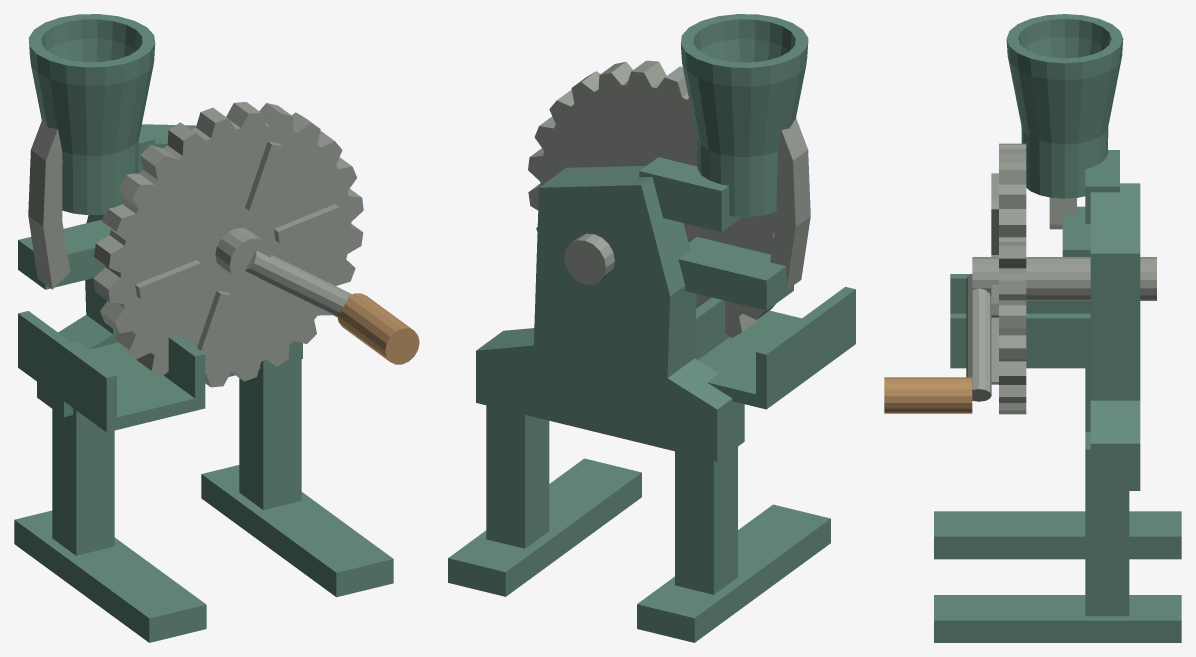
3 renders of one model, left to right at view 1: azimuth 30°, elevation 25°; view 2: azimuth 150°, elevation 25°; view 3: azimuth 270°, elevation 25°, orthographic. The views are drawn at different scales.
Visible parts, largest first — view 1: WholeSolidSerratedShellingDisc, WholeOpenTaperedCobThroat, WholeShortOpenOutfall, WholeLongMountingFoot0, WholeLongMountingFoot1, WholeShortBearingLeg1, WholeShortBearingLeg0, WholeCurvedFixedPressureJaw, WholeRoundedWoodCrankGrip, WholeWaistedUprightBearingCasting, WholeOffsetHandCrank, WholeLowerJawBearingLug (+7 smaller); view 2: WholeWaistedUprightBearingCasting, WholeOpenTaperedCobThroat, WholeSolidSerratedShellingDisc, WholeShortOpenOutfall, WholeLongMountingFoot1, WholeLongMountingFoot0, WholeShortBearingLeg0, WholeShortBearingLeg1, WholeLowerJawBearingLug, WholeCurvedFixedPressureJaw, WholeThroatBearingWeb, WholeTransverseDiscAxle; view 3: WholeOpenTaperedCobThroat, WholeWaistedUprightBearingCasting, WholeLongMountingFoot1, WholeLongMountingFoot0, WholeSolidSerratedShellingDisc, WholeShortOpenOutfall, WholeShortBearingLeg1, WholeTransverseDiscAxle, WholeRoundedWoodCrankGrip, WholeOffsetHandCrank, WholeThroatBearingWeb, WholeLowerJawBearingLug (+3 smaller).
Part boxes in pixels (<box>): WholeSolidSerratedShellingDisc: <box>93,102,363,387</box>; WholeOpenTaperedCobThroat: <box>28,14,155,214</box>; WholeShortOpenOutfall: <box>18,311,205,432</box>; WholeLongMountingFoot0: <box>14,510,206,642</box>; WholeLongMountingFoot1: <box>201,465,393,597</box>; WholeShortBearingLeg1: <box>239,340,301,509</box>; WholeShortBearingLeg0: <box>52,408,114,555</box>; WholeCurvedFixedPressureJaw: <box>28,119,70,289</box>; WholeRoundedWoodCrankGrip: <box>337,293,419,364</box>; WholeWaistedUprightBearingCasting: <box>37,124,302,416</box>; WholeOffsetHandCrank: <box>245,250,352,317</box>; WholeLowerJawBearingLug: <box>18,219,110,289</box>; WholeWaistedUprightBearingCasting: <box>476,165,744,461</box>; WholeOpenTaperedCobThroat: <box>681,14,808,216</box>; WholeSolidSerratedShellingDisc: <box>528,60,776,337</box>; WholeShortOpenOutfall: <box>694,287,855,409</box>; WholeLongMountingFoot1: <box>448,458,641,596</box>; WholeLongMountingFoot0: <box>637,504,830,642</box>; WholeShortBearingLeg0: <box>675,447,737,594</box>; WholeShortBearingLeg1: <box>486,405,549,548</box>; WholeLowerJawBearingLug: <box>678,237,793,310</box>; WholeCurvedFixedPressureJaw: <box>770,118,810,290</box>; WholeThroatBearingWeb: <box>639,157,740,232</box>; WholeTransverseDiscAxle: <box>564,233,614,284</box>; WholeOpenTaperedCobThroat: <box>1006,14,1123,198</box>; WholeWaistedUprightBearingCasting: <box>1090,183,1140,490</box>; WholeLongMountingFoot1: <box>934,595,1181,642</box>; WholeLongMountingFoot0: <box>934,511,1181,559</box>; WholeSolidSerratedShellingDisc: <box>999,143,1026,414</box>; WholeShortOpenOutfall: <box>950,274,1090,368</box>; WholeShortBearingLeg1: <box>1085,432,1129,616</box>; WholeTransverseDiscAxle: <box>972,257,1156,300</box>; WholeRoundedWoodCrankGrip: <box>884,377,972,413</box>; WholeOffsetHandCrank: <box>966,274,991,401</box>; WholeThroatBearingWeb: <box>1085,150,1119,223</box>; WholeLowerJawBearingLug: <box>1062,206,1090,256</box>.
Size of the model in its own units: 0.5635 by 1 by 0.54.
